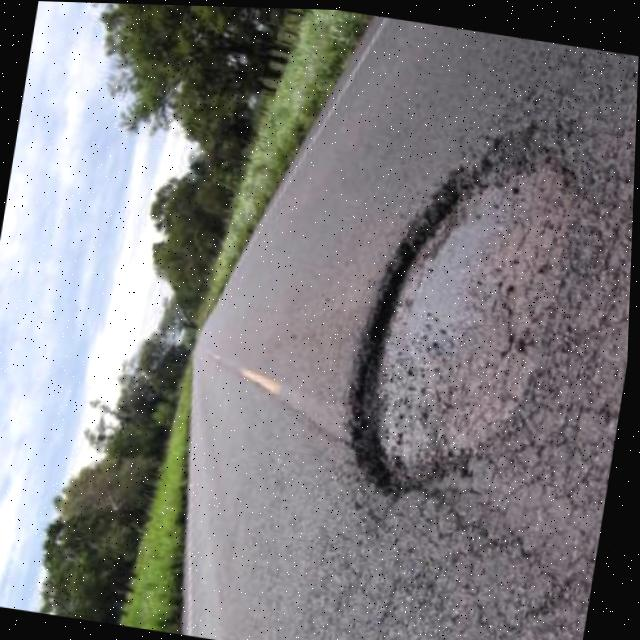Pothole: (270, 47, 624, 554)
